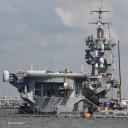Portanaves: (4, 4, 118, 116)
